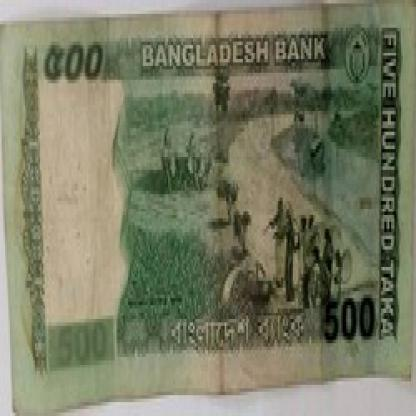500 taka: (33, 42, 115, 83)
currency: (0, 13, 415, 413)
